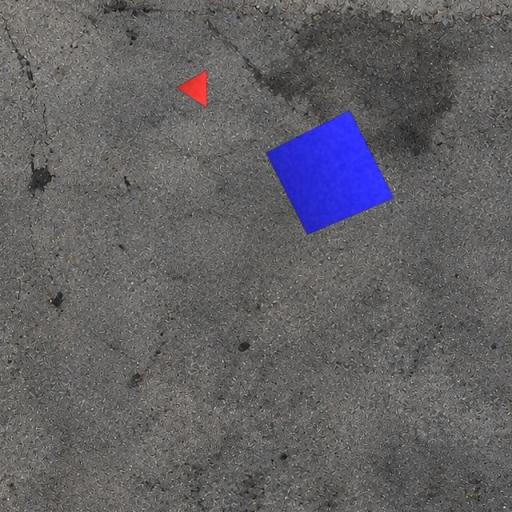BLUE_SQUARE: (265, 110, 394, 235)
